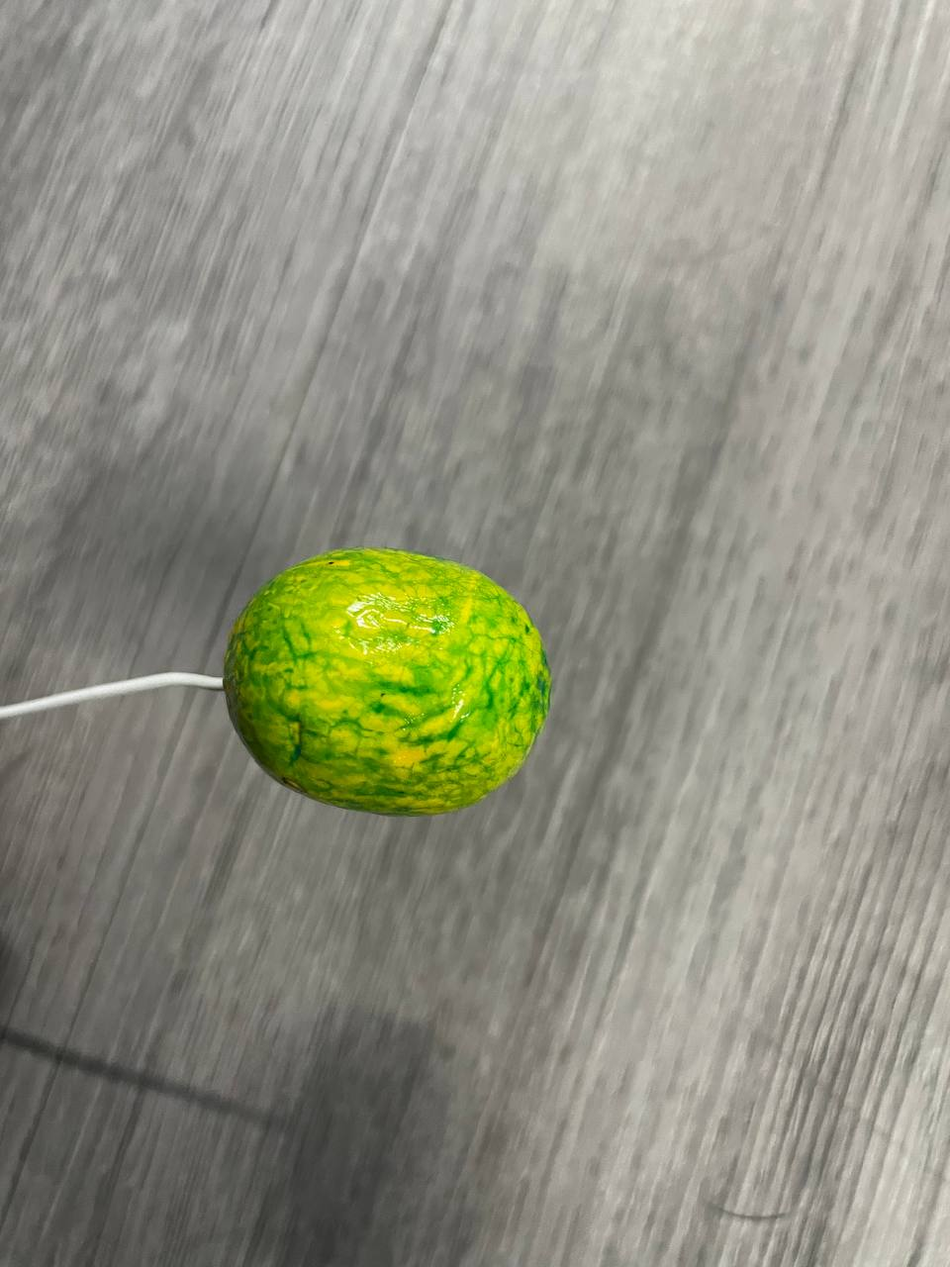lime_unripe: (221, 550, 555, 813)
